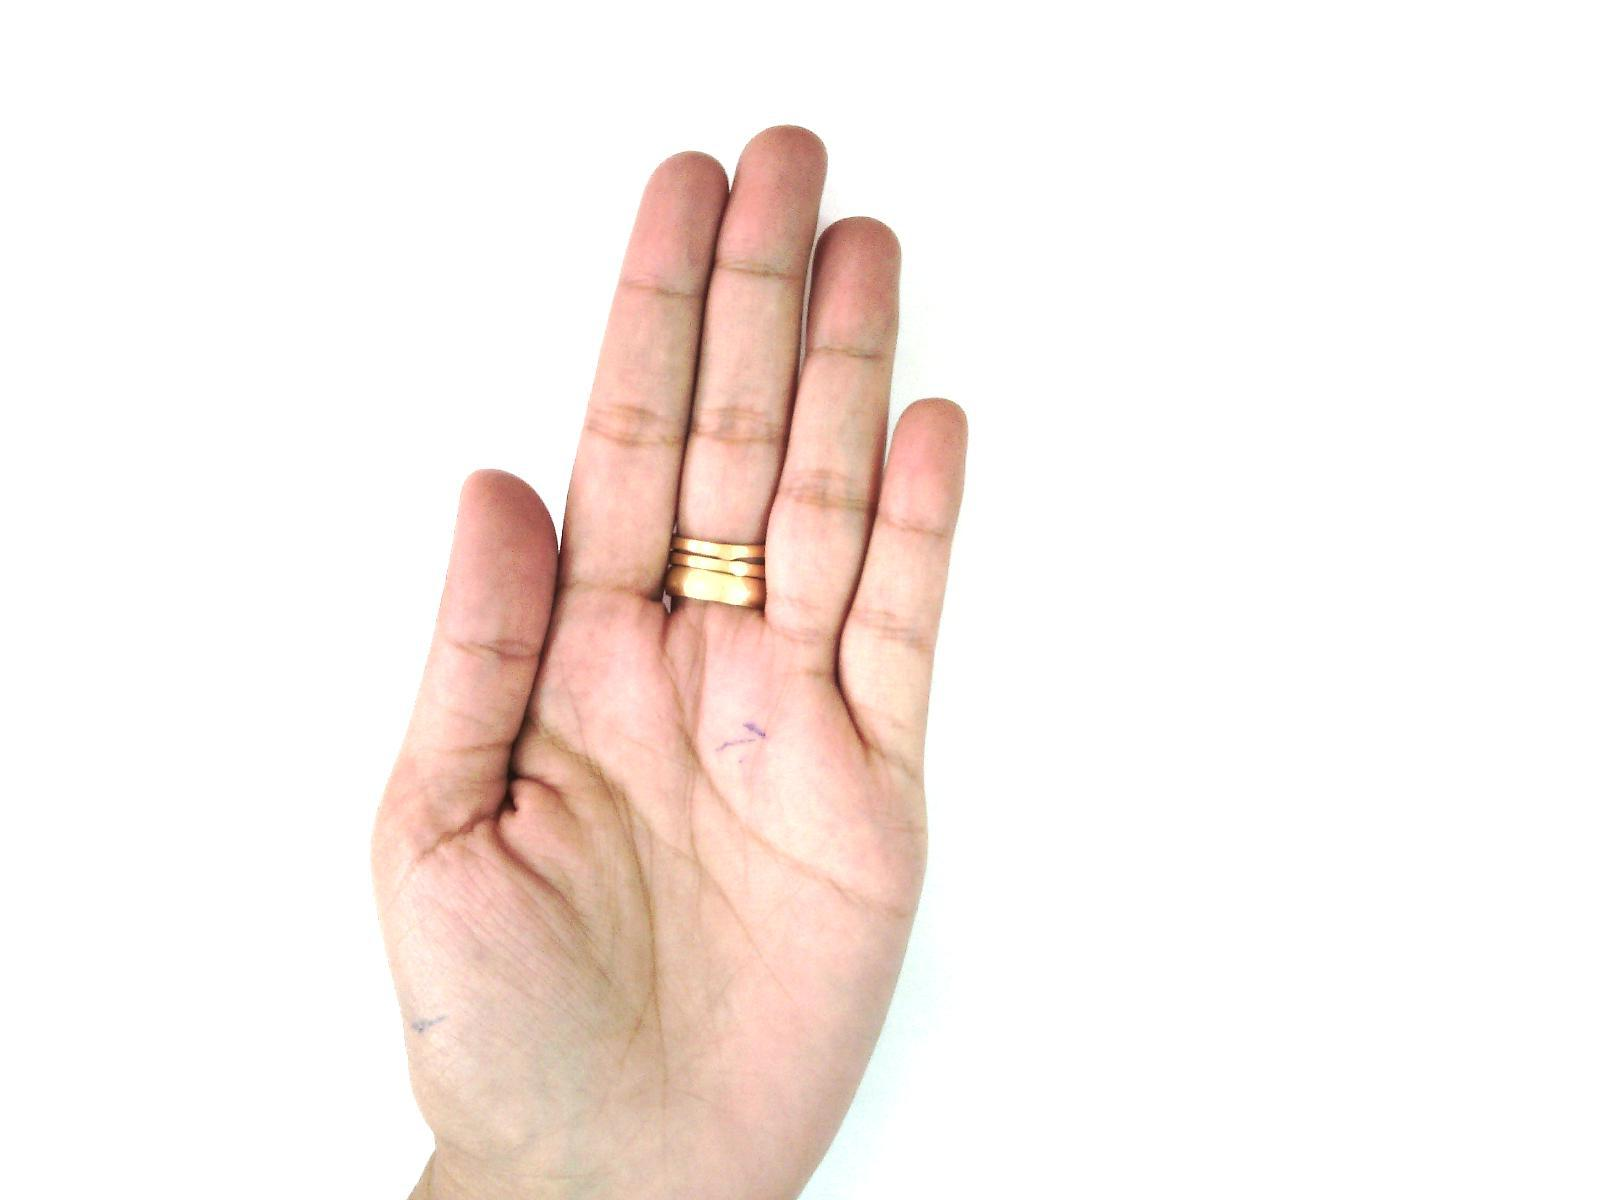hand: (373, 120, 968, 1191)
